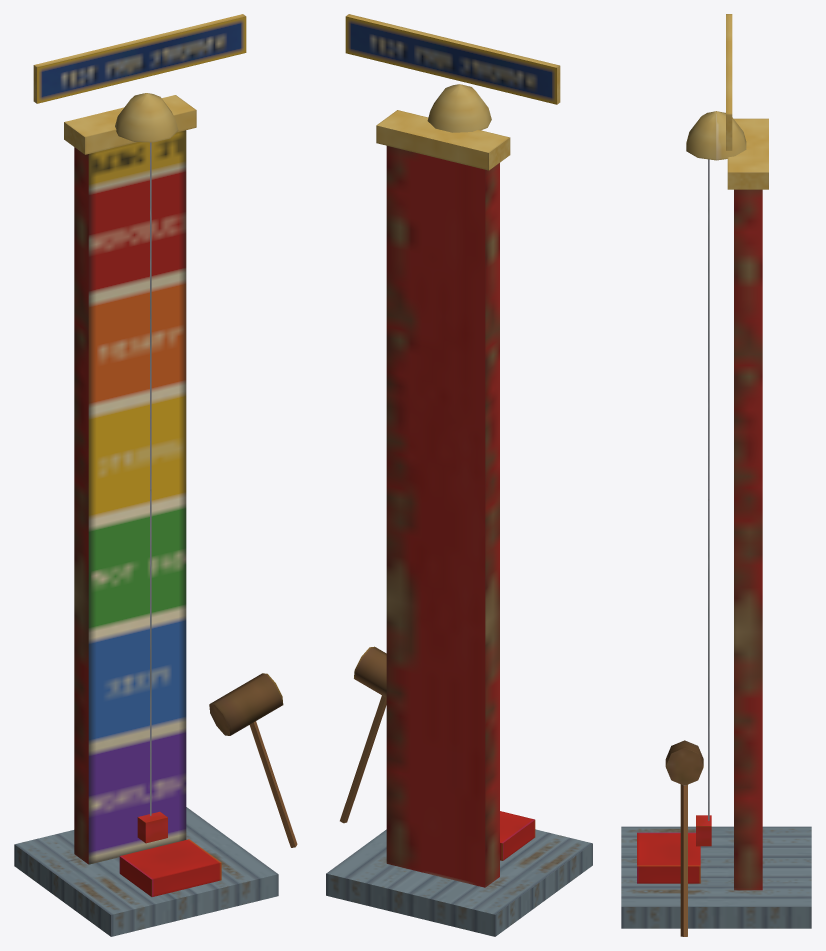
Rendered from high_striker.obj.
3 renders of one model, left to right at view 1: azimuth 30°, elevation 25°; view 2: azimuth 150°, elevation 25°; view 3: azimuth 270°, elevation 25°, orthographic. The views are drawn at different scales.
Visible parts, largest first — view 1: high_striker, high_striker_puck; view 2: high_striker; view 3: high_striker, high_striker_puck.
Boxes of the visible parts, left/top/right/bottom form: high_striker: left=14, top=14, right=297, bottom=936; high_striker_puck: left=137, top=811, right=167, bottom=843; high_striker: left=326, top=14, right=592, bottom=936; high_striker: left=621, top=14, right=811, bottom=936; high_striker_puck: left=696, top=815, right=711, bottom=846.
Size of the model in its own units: 1.71 by 5.72 by 1.2.
1 material, 1 textured.
